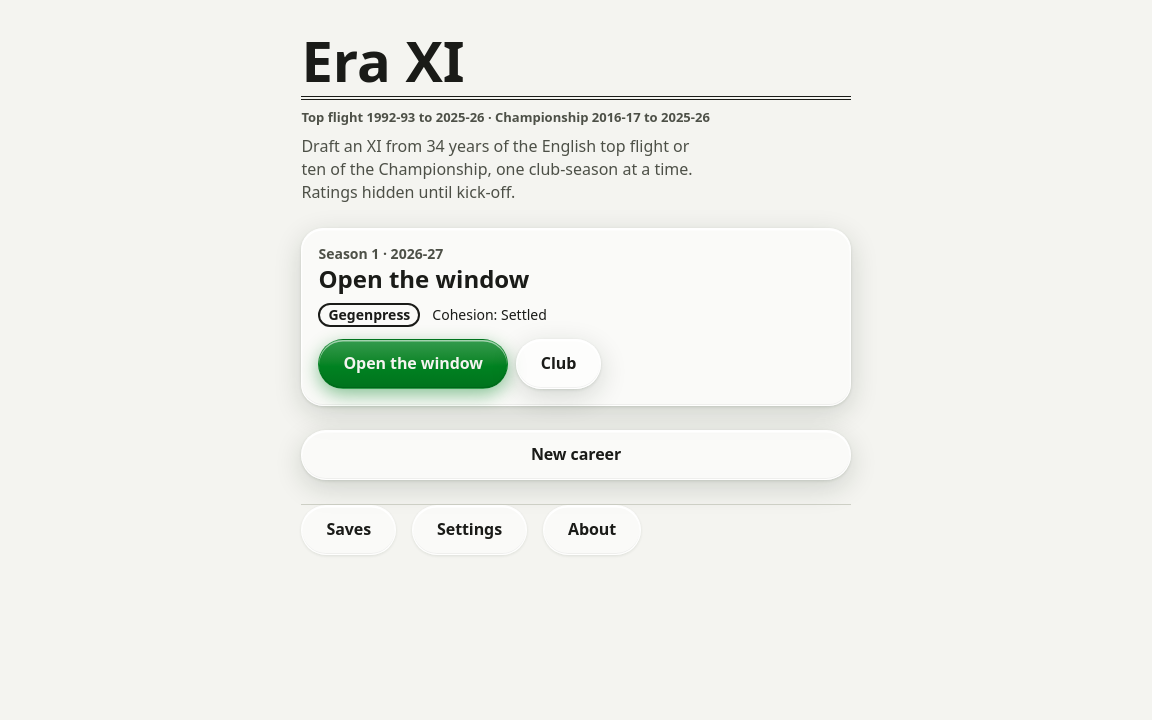
it: App › relegates a top-flight career from the bottom three into a Championship season 2
What coordinates should you click on to do the following:
click the button "Open the window"
I would click on:
 (413, 364)
Its box is [318,339,508,389].
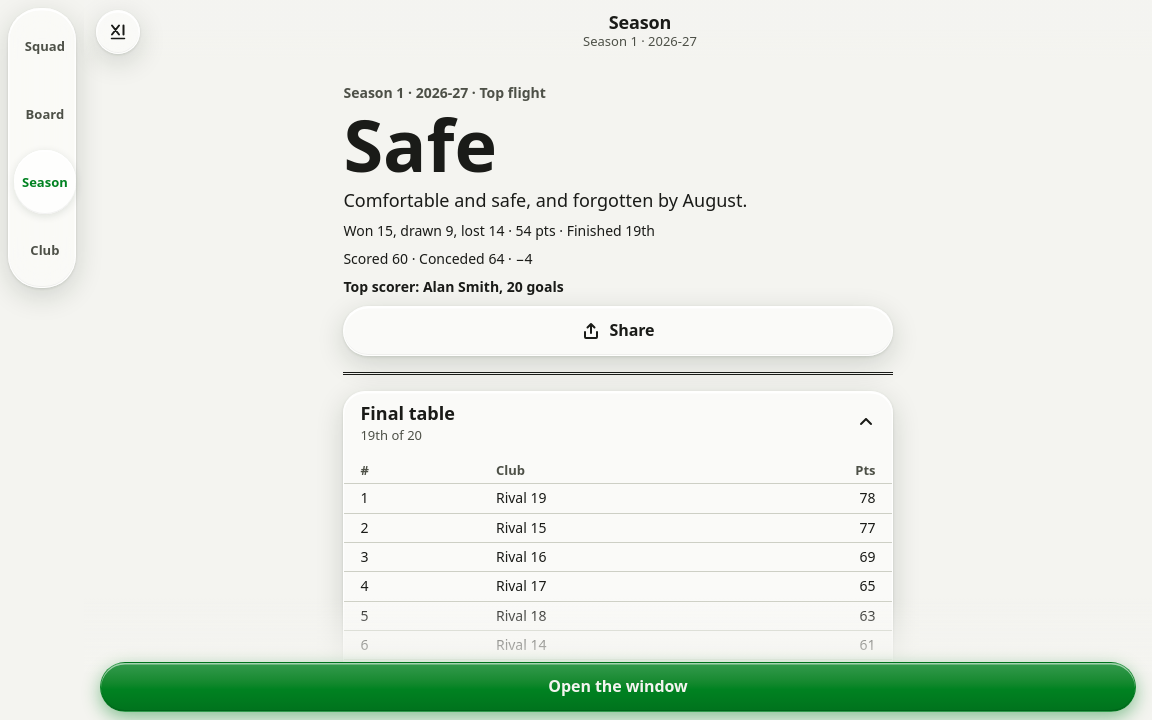
What coordinates should you click on to do the following:
click the button "Open the window"
I would click on:
 (618, 687)
Its box is [100,662,1136,712].
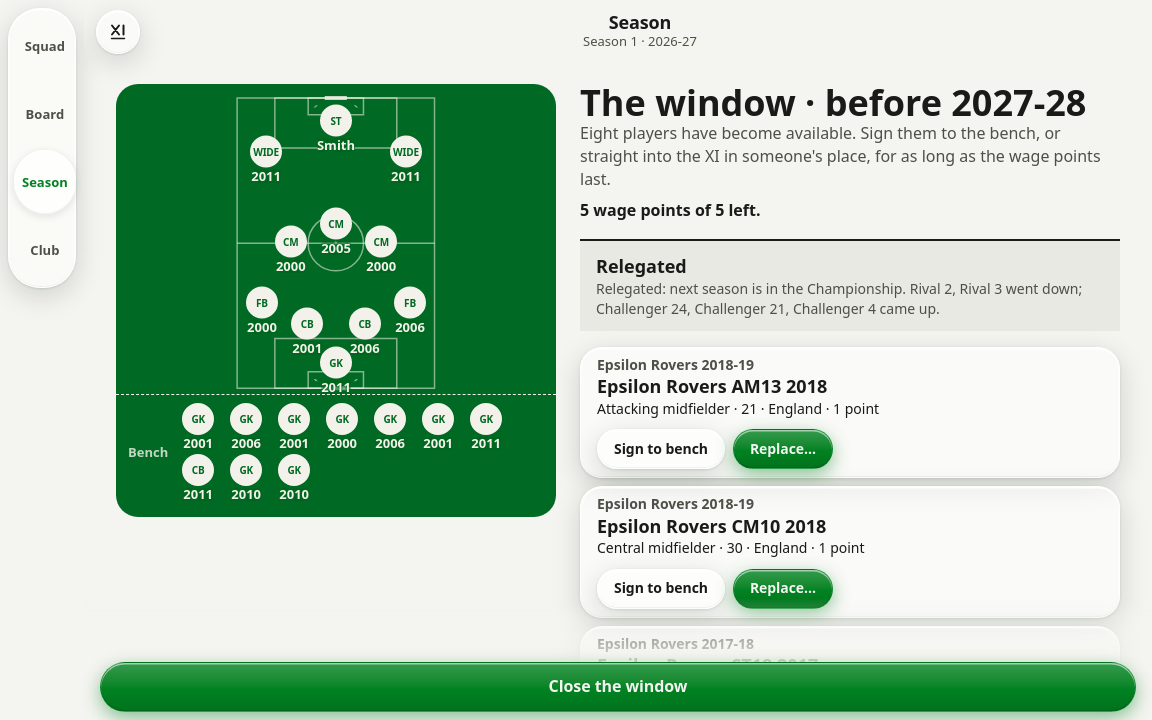
Now the text "Relegated: next season is in the Championship." is shown, box [596,279,1082,318]
What coordinates should you click on to do the following:
click the button "Close the window"
I would click on:
 (618, 687)
Its box is [100,662,1136,712].
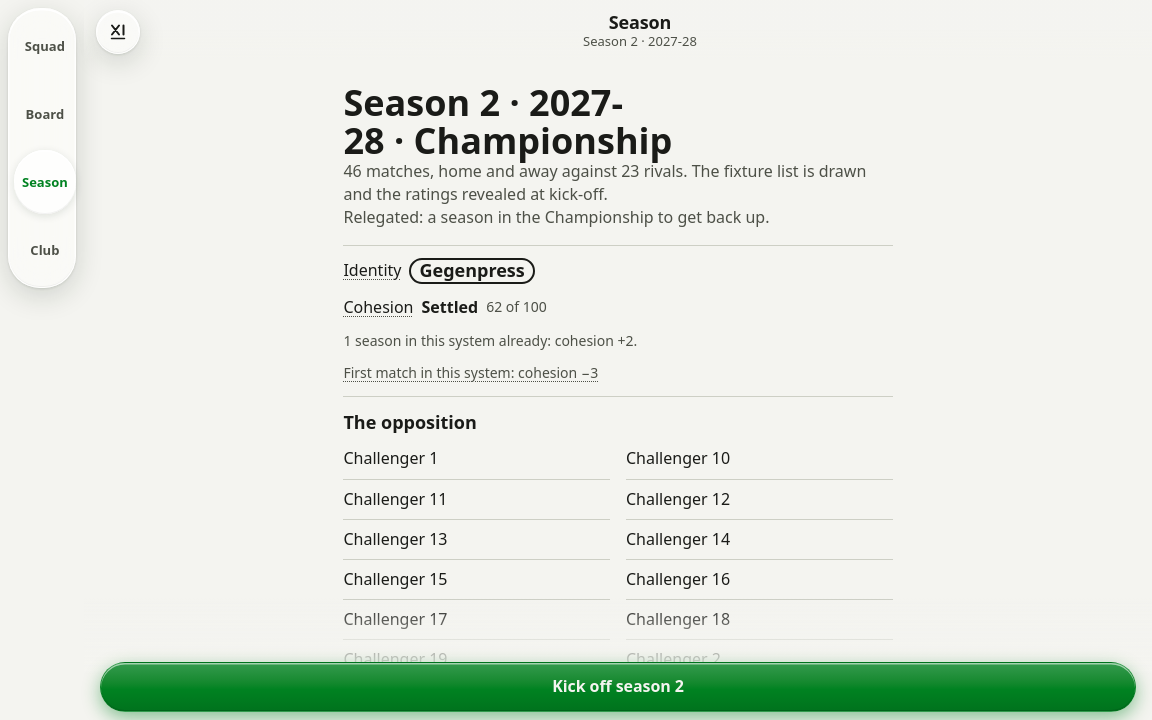
Now the heading "Season 2 · 2027-28 · Championship" is shown, box [343,78,672,165]
Now the text "46 matches, home and away against 23 rivals" is shown, box [343,160,892,206]
